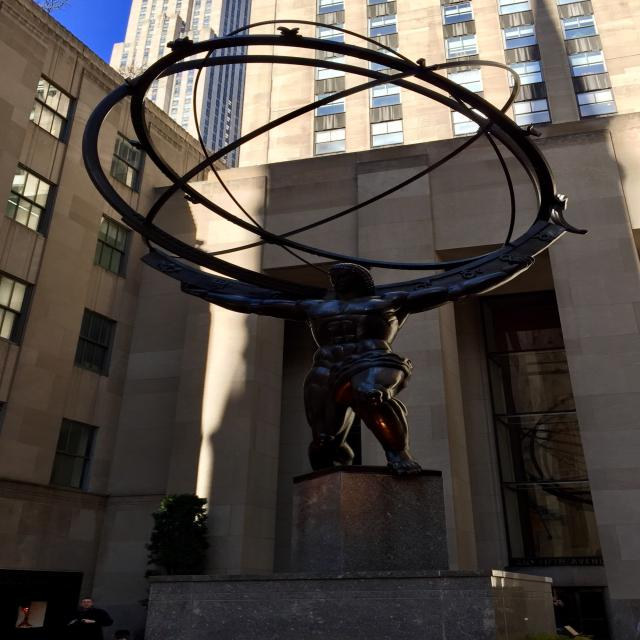Metal: (82, 23, 584, 474)
